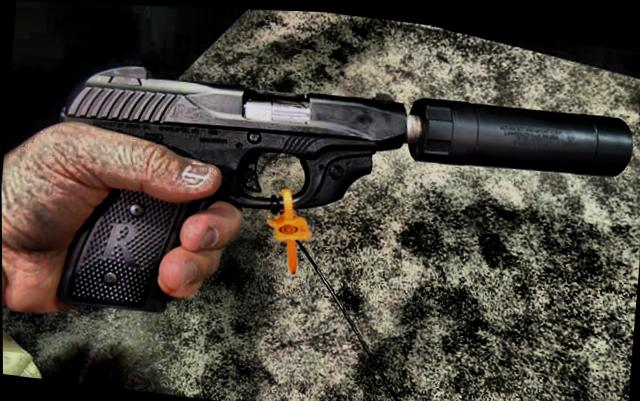pistol: (33, 50, 420, 340)
